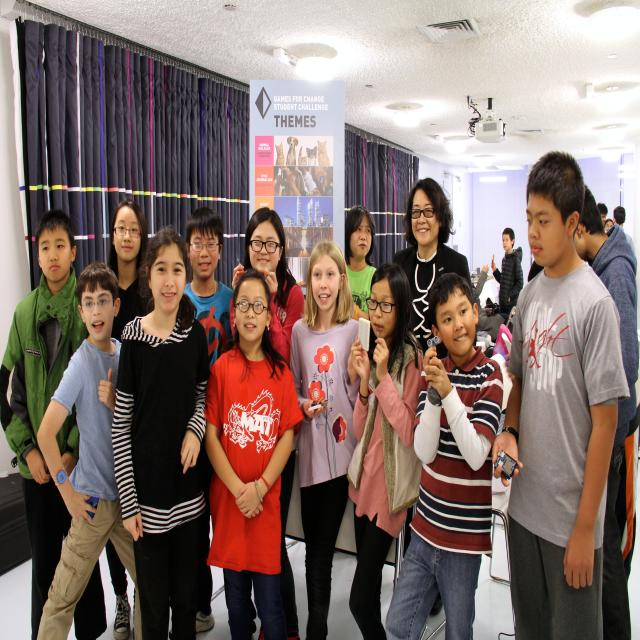body: (488, 148, 632, 640), (376, 263, 506, 640), (0, 206, 108, 640), (106, 225, 214, 640), (198, 262, 307, 640), (35, 259, 143, 640), (227, 207, 307, 640), (570, 179, 640, 639), (168, 208, 239, 636), (346, 261, 426, 640), (289, 238, 363, 640), (102, 196, 156, 640), (392, 175, 472, 358), (468, 260, 545, 389), (343, 204, 378, 322), (490, 227, 524, 315), (598, 201, 636, 254)
